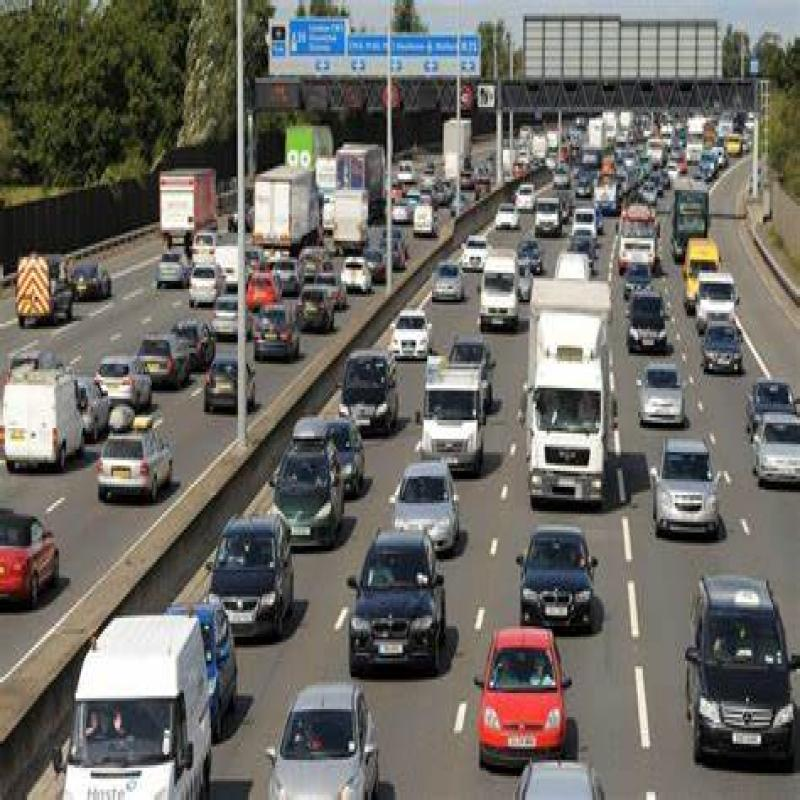car: (690, 567, 800, 787), (477, 608, 572, 768), (358, 531, 445, 673), (382, 440, 466, 568), (647, 413, 731, 539), (514, 517, 599, 641), (272, 440, 362, 541), (94, 418, 176, 509), (737, 417, 800, 524), (335, 346, 405, 432), (751, 404, 800, 498), (691, 271, 738, 356), (386, 306, 428, 375)
